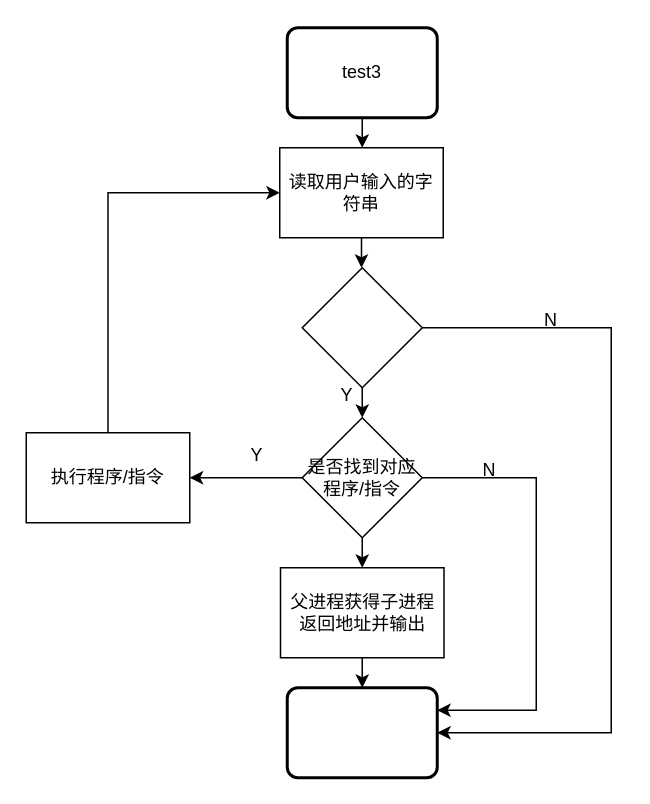
Image size: 650x804. Some labels were removed from this diagram. The shapes that lost their labels are listed below. From the top down, each one's centre as x and y in pixels, then its label:
At [361,327]: "字符串是否是'exit'".
At [361,732]: "结束".
